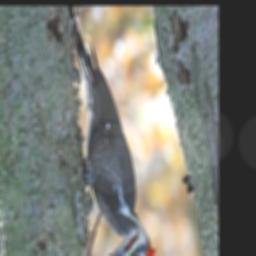Woodpecker: (71, 9, 158, 256)
